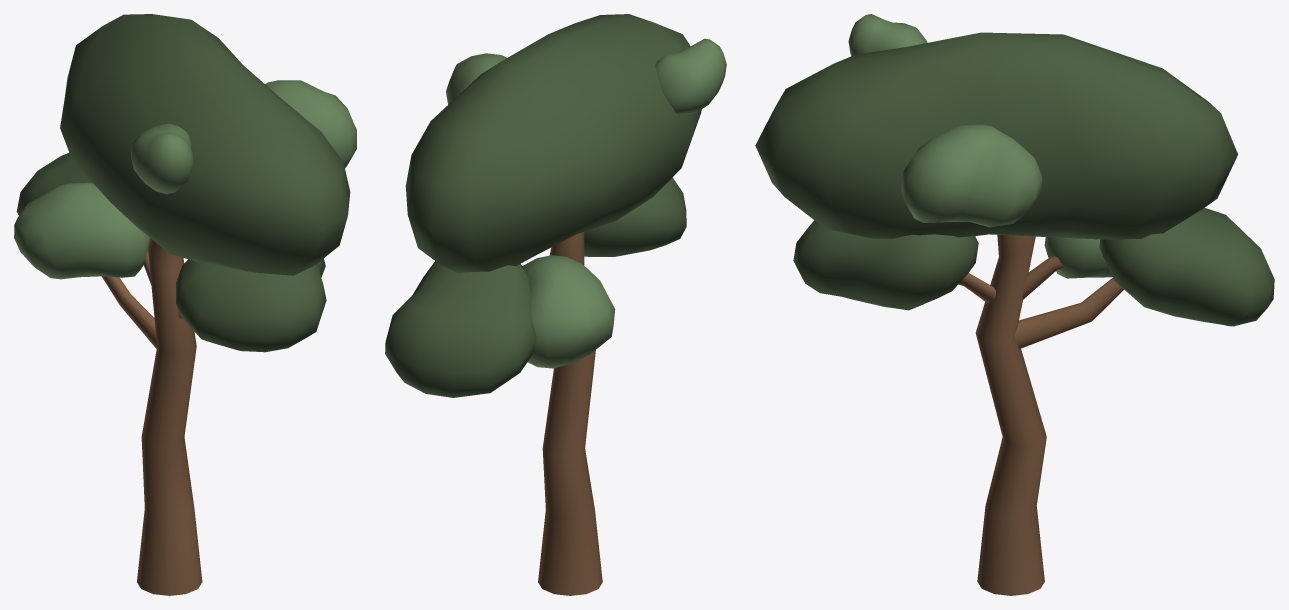
Rendered from tre1.fbx.
3 renders of one model, left to right at view 1: azimuth 30°, elevation 25°; view 2: azimuth 150°, elevation 25°; view 3: azimuth 270°, elevation 25°, orthographic. The views are drawn at different scales.
Visible parts, largest first — view 1: polySurface685.001, polySurface681.001, polySurface688.001, polySurface687.001, polySurface690.001, polySurface689.001, polySurface686.001, polySurface683.001; view 2: polySurface685.001, polySurface686.001, polySurface681.001, polySurface687.001, polySurface688.001, polySurface690.001, polySurface689.001; view 3: polySurface685.001, polySurface681.001, polySurface686.001, polySurface688.001, polySurface689.001, polySurface683.001, polySurface690.001, polySurface687.001, polySurface682.001.
Part boxes in pixels (box(x1,y1,x2,y2)): polySurface685.001: box(60, 14, 350, 275); polySurface681.001: box(137, 238, 202, 595); polySurface688.001: box(176, 258, 326, 352); polySurface687.001: box(14, 182, 149, 279); polySurface690.001: box(131, 123, 194, 194); polySurface689.001: box(265, 80, 356, 167); polySurface686.001: box(16, 153, 91, 215); polySurface683.001: box(101, 276, 156, 348); polySurface685.001: box(405, 14, 701, 272); polySurface686.001: box(385, 261, 536, 397); polySurface681.001: box(538, 232, 602, 595); polySurface687.001: box(522, 255, 615, 368); polySurface688.001: box(584, 177, 686, 256); polySurface690.001: box(655, 38, 726, 114); polySurface689.001: box(446, 53, 507, 104); polySurface685.001: box(755, 32, 1237, 239); polySurface681.001: box(975, 235, 1046, 595); polySurface686.001: box(1099, 208, 1274, 326); polySurface688.001: box(793, 220, 978, 310); polySurface689.001: box(901, 124, 1042, 227); polySurface683.001: box(1015, 278, 1123, 348); polySurface690.001: box(848, 14, 927, 56); polySurface687.001: box(1044, 237, 1112, 278); polySurface682.001: box(1022, 256, 1064, 299).
Size of the model in its own units: 242 by 508 by 431.
